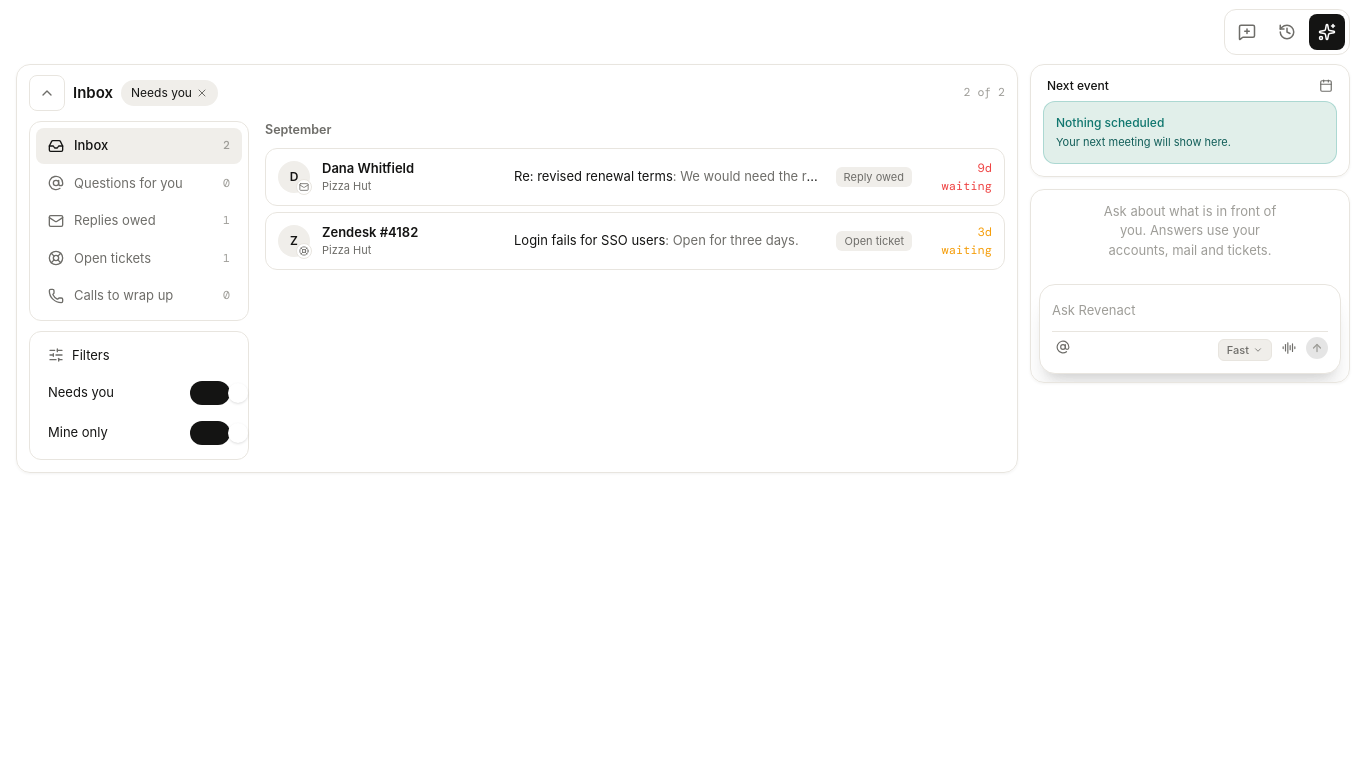
Scenario: CommunicationsPage › opens a dashboard conversation as plain text, with its tag, without leaving Communications
Click the button named "history" at (1287, 32), box 1269,14 -> 1305,50
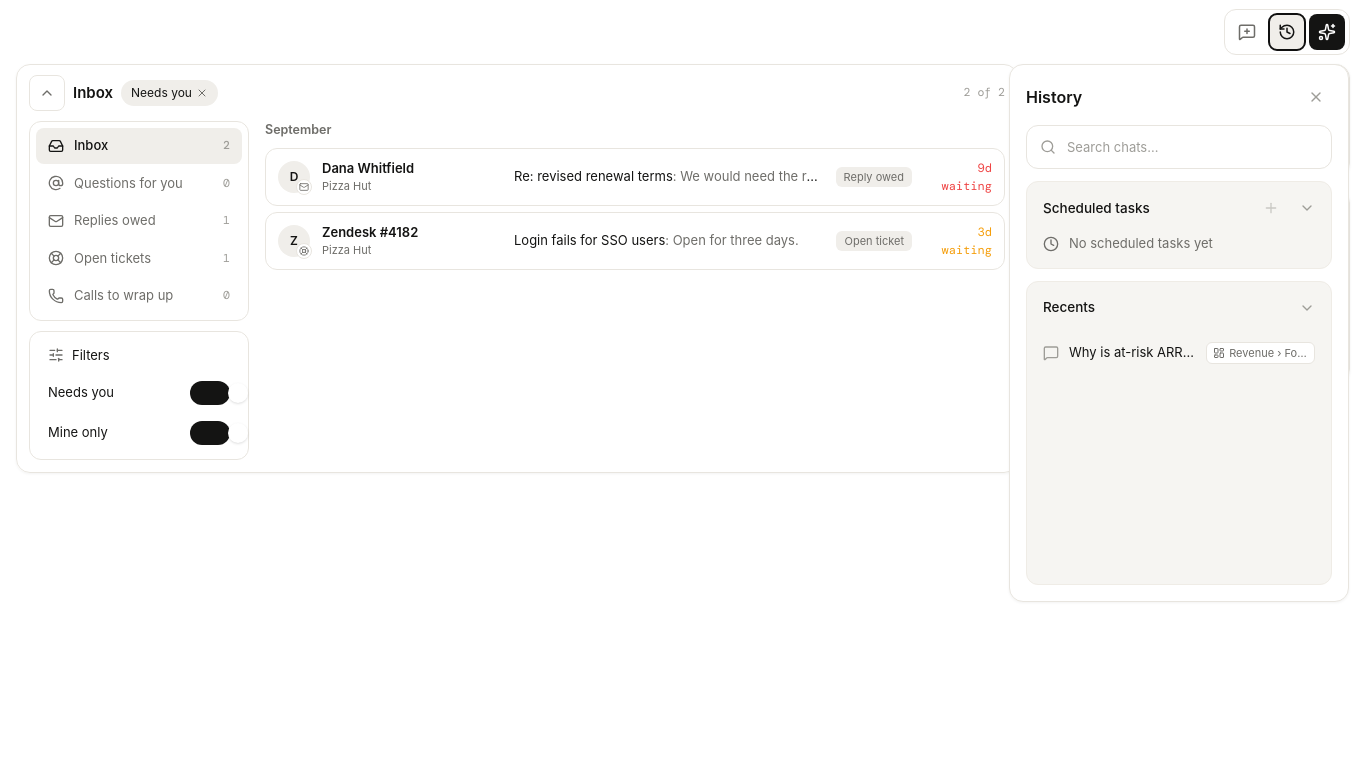
Now the text "Revenue › Forecast" is shown, box 1229,344 -> 1308,361
Click the button "Why is at-risk ARR up? Revenue › Forecast" at (1179, 353), box 1035,334 -> 1323,372
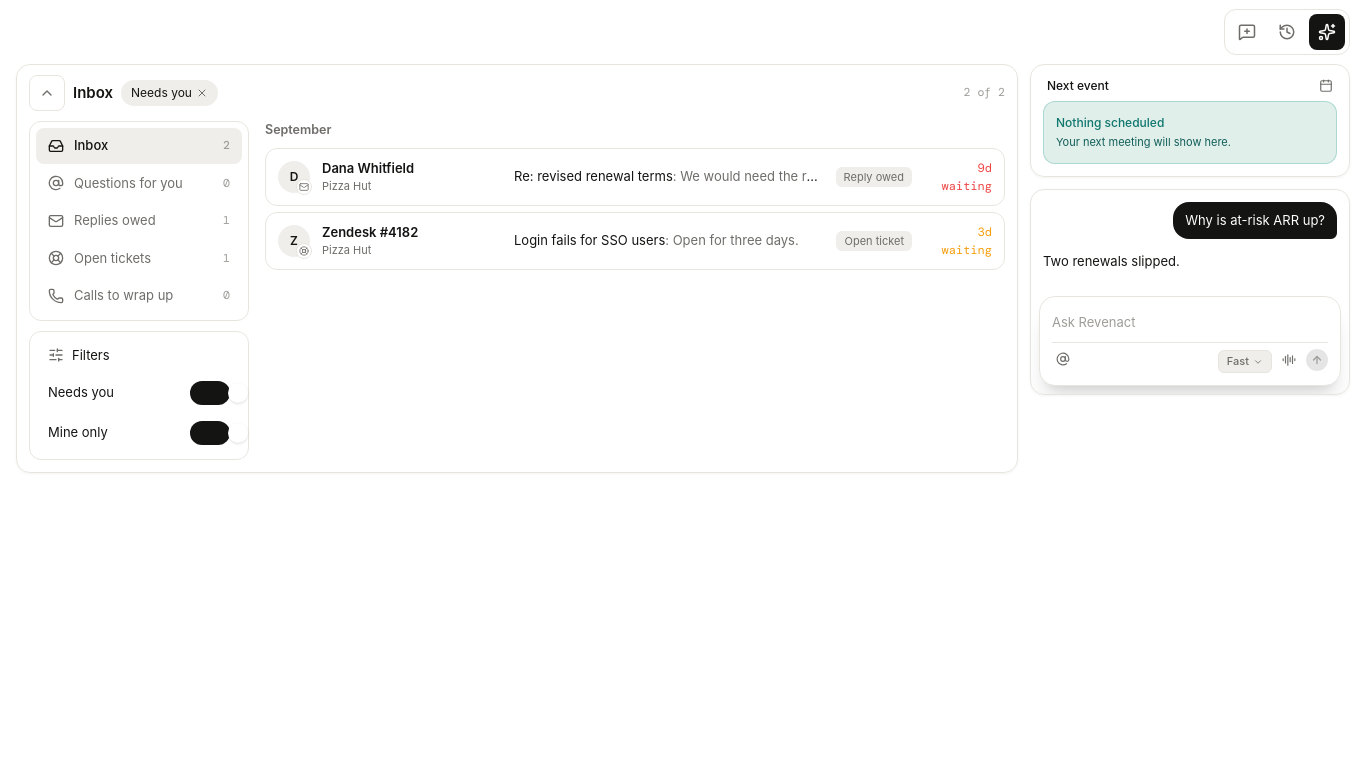
Now the text "Two renewals slipped." is shown, box 1043,251 -> 1180,272
